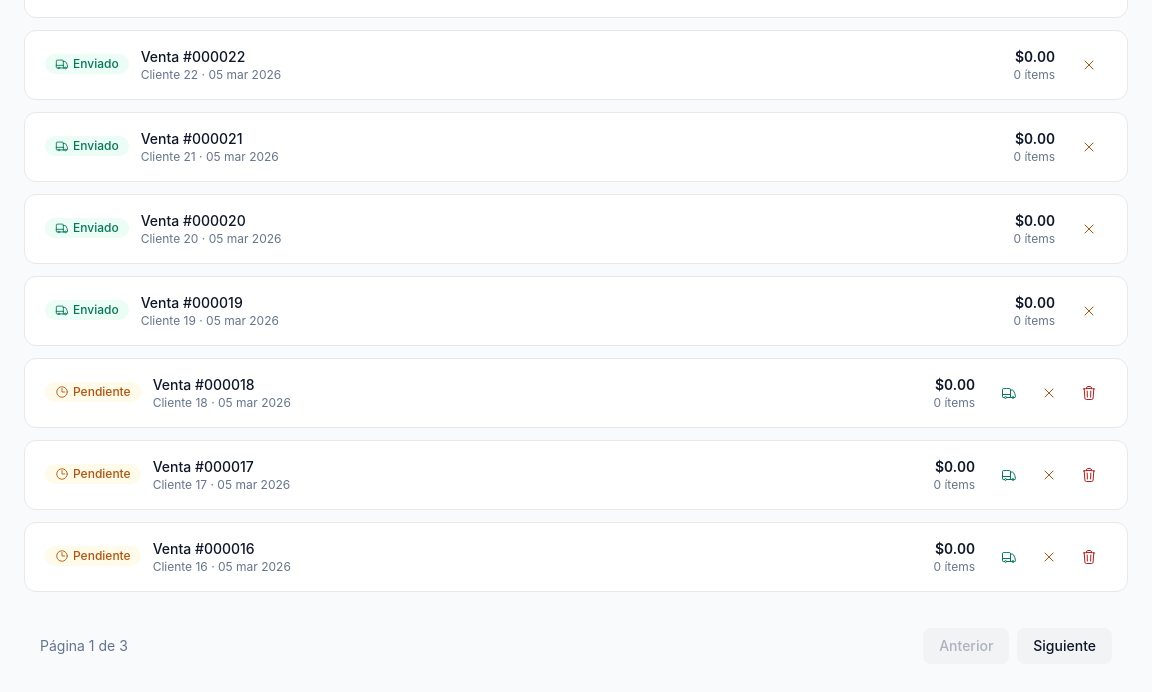
Test: SaleOrdersPage — paginación y filtros (T6-01) › filtrar por estado vuelve a la página 1 y cuenta lo filtrado
This screenshot has width=1152, height=692.
(page scrolled)
Click the button "Siguiente" at (1065, 646), box left=1017, top=628, right=1112, bottom=664
(page scrolled)
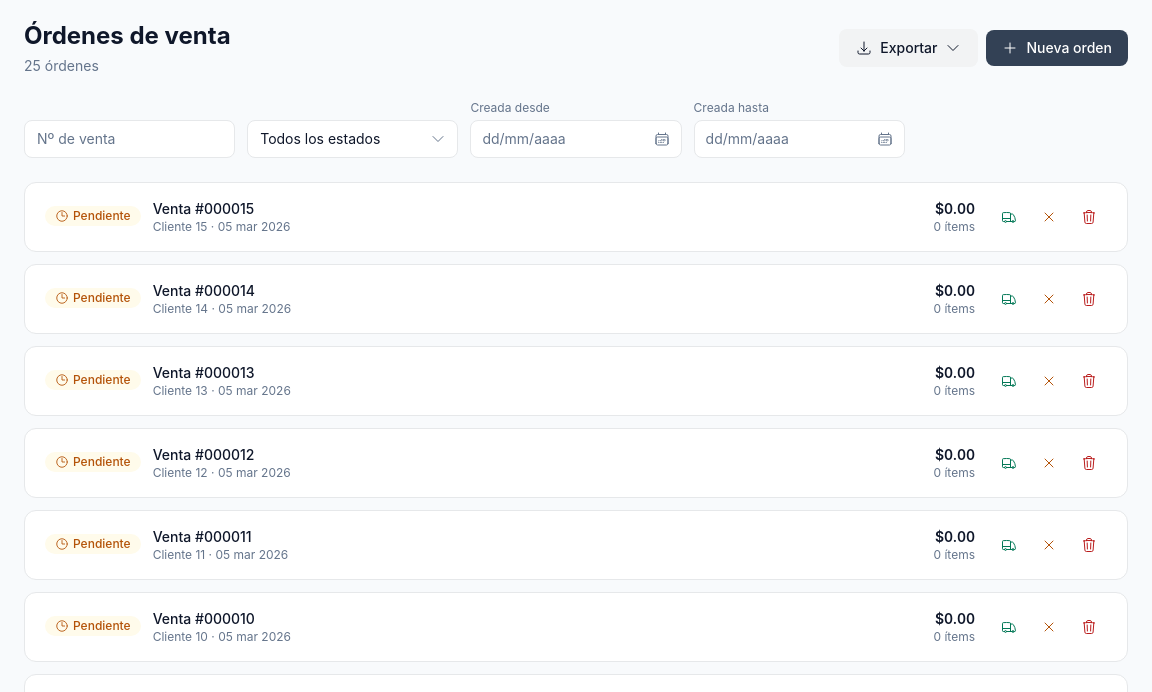
Select "Enviado" in the dropdown named "Estado" at (353, 139), box left=247, top=120, right=458, bottom=158
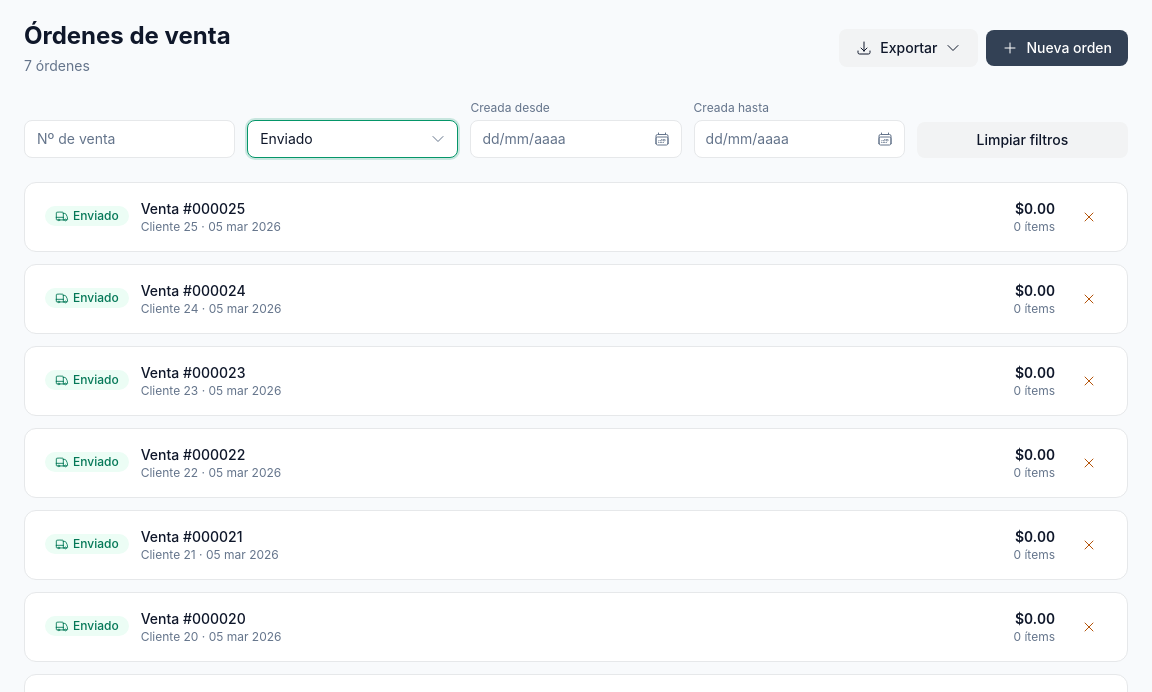
Expected: the text "Página" is not shown
Result: the text "7 órdenes" is shown at left=24, top=57, right=90, bottom=74
